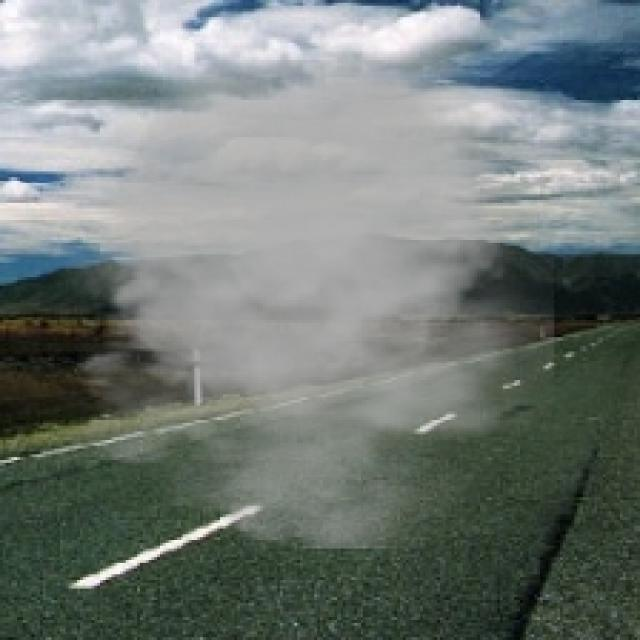smoke: (14, 29, 554, 548)
